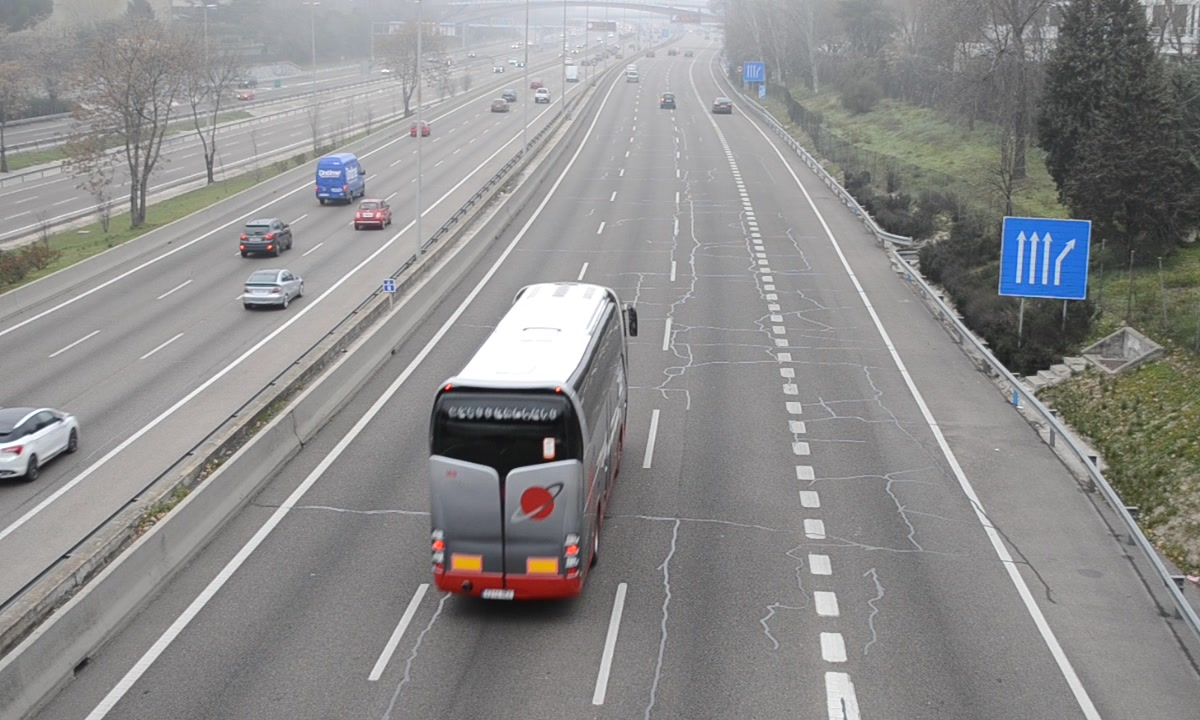bus: (428, 282, 628, 598)
car: (658, 91, 678, 112), (712, 97, 733, 116)
